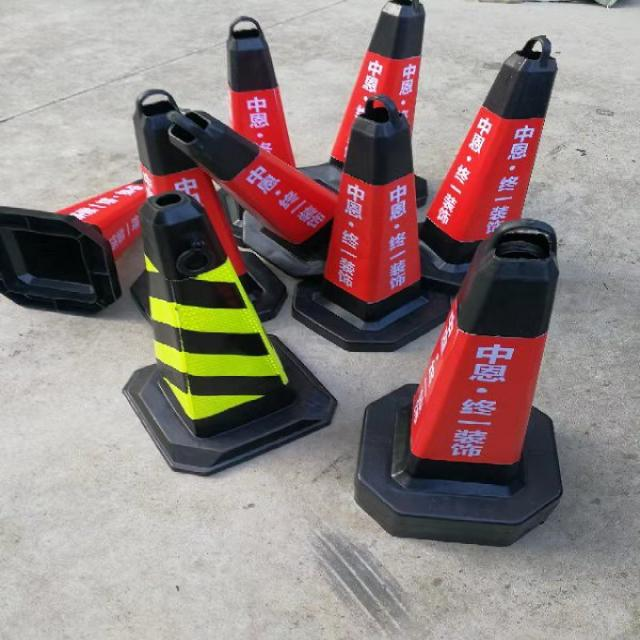reflective_cone: (353, 218, 562, 545), (126, 193, 331, 474), (287, 92, 449, 352), (421, 34, 559, 288), (130, 90, 283, 318), (163, 109, 335, 272), (300, 0, 429, 210), (6, 172, 142, 314), (221, 17, 301, 162)
